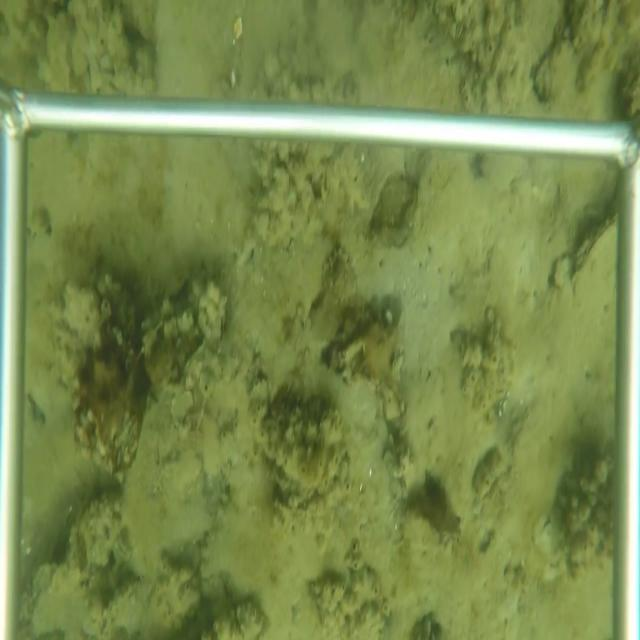Oyster-Closed: (570, 215, 618, 297)
